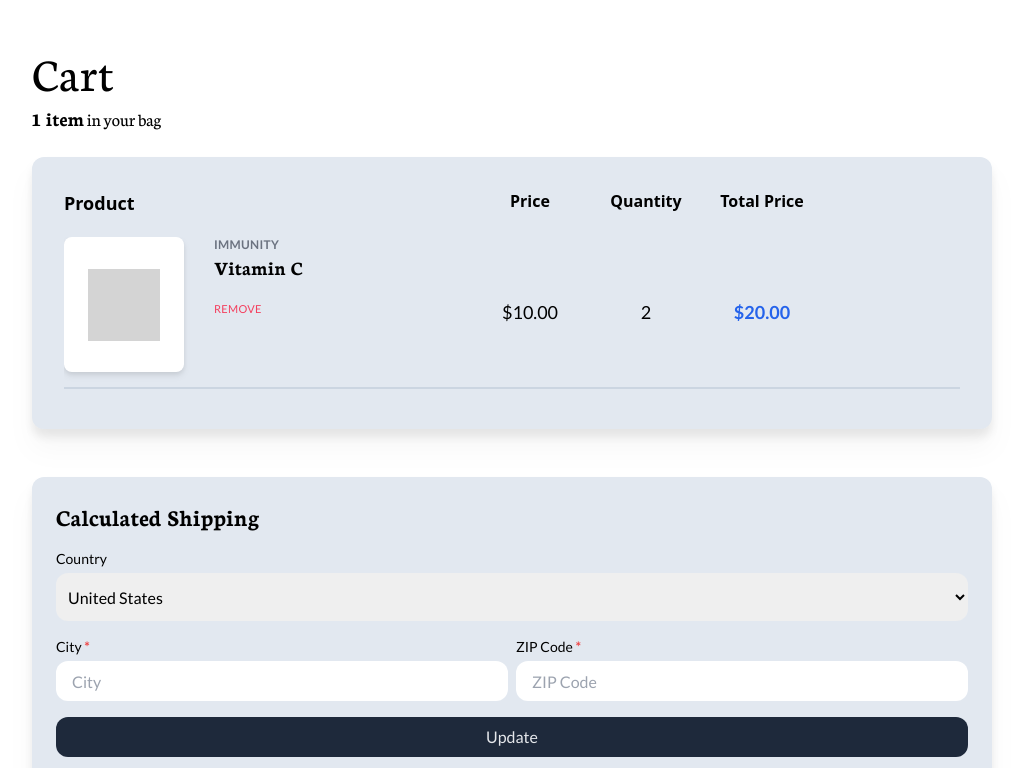
Test: CartPage remove › reloads the cart after a successful remove
Click the button "Remove".
click(238, 309)  # box left=206, top=297, right=270, bottom=322
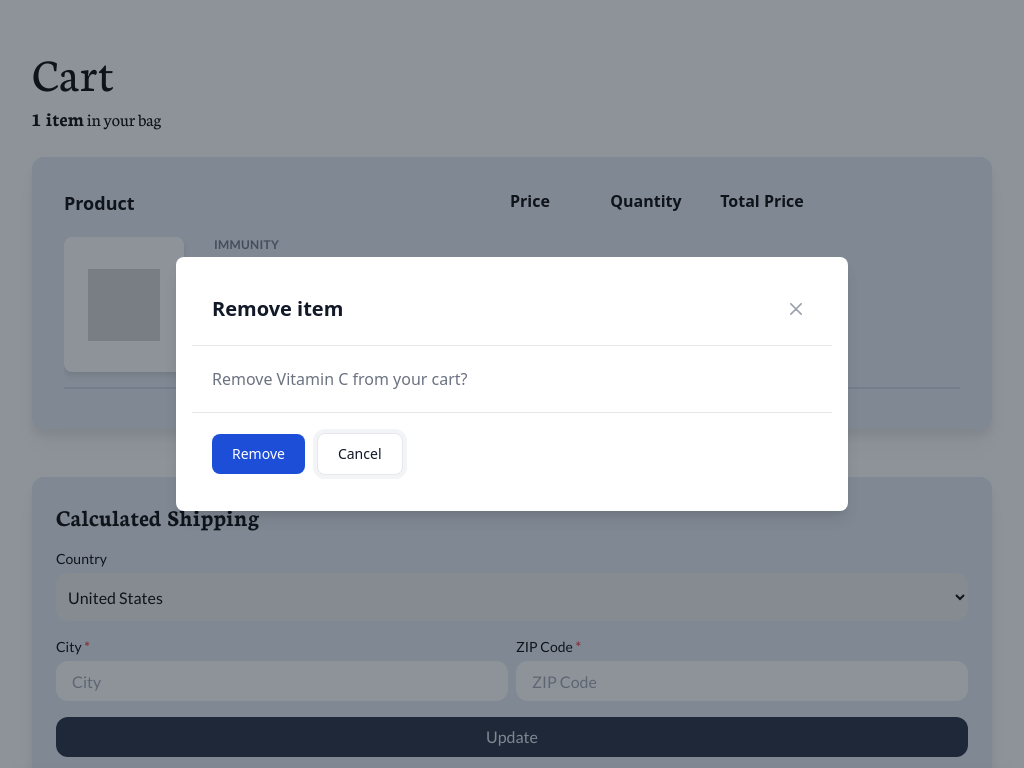
Expected: the dialog shows "Remove Vitamin C from your cart?", left=212, top=368, right=468, bottom=390
Click the button "Remove".
click(258, 454)  # box left=212, top=434, right=305, bottom=474
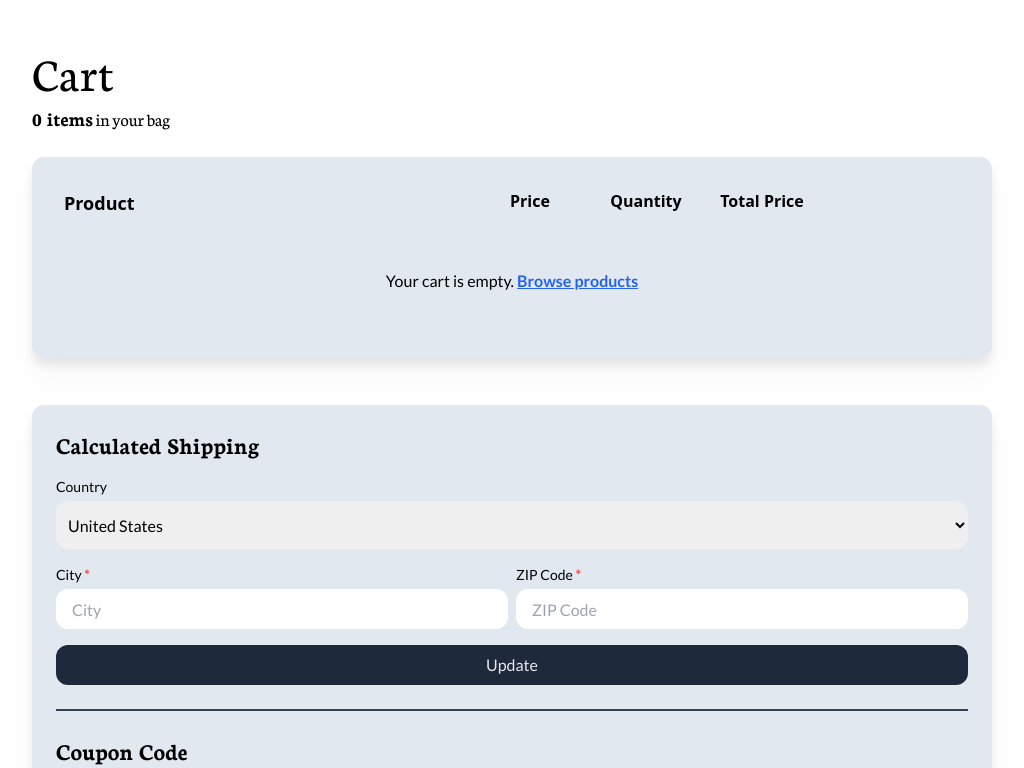
Expected: the text "Vitamin C" is gone
Expected: the text "Your cart is empty. Browse products" is shown, left=386, top=271, right=638, bottom=290
